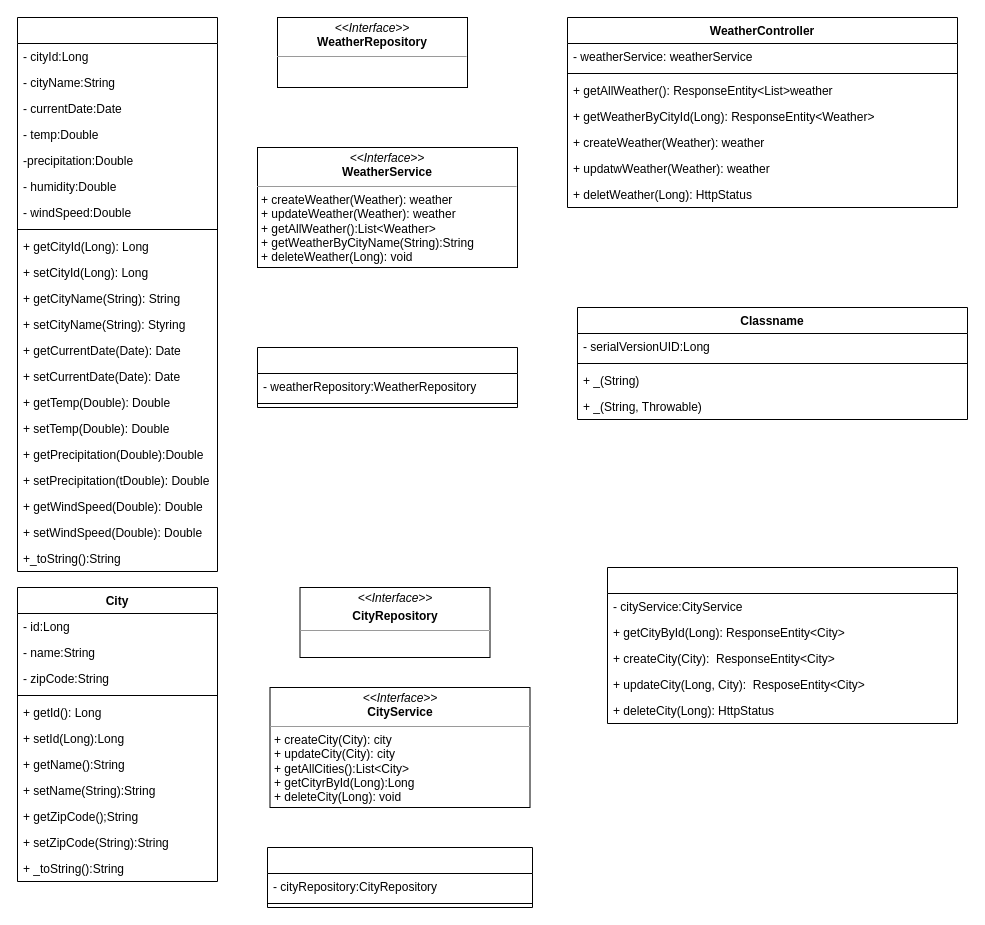
Image size: 985x925. Some labels were removed from this diagram. The shapes that lost their labels are listed below. From the top down, each one's box as (x1, y1, x2, y2) in pixels, then its label:
(16, 16, 218, 572): Weather
(256, 346, 518, 408): WeatherServiceImpl
(606, 566, 958, 724): CityController
(266, 846, 532, 908): CityServiceImpl
